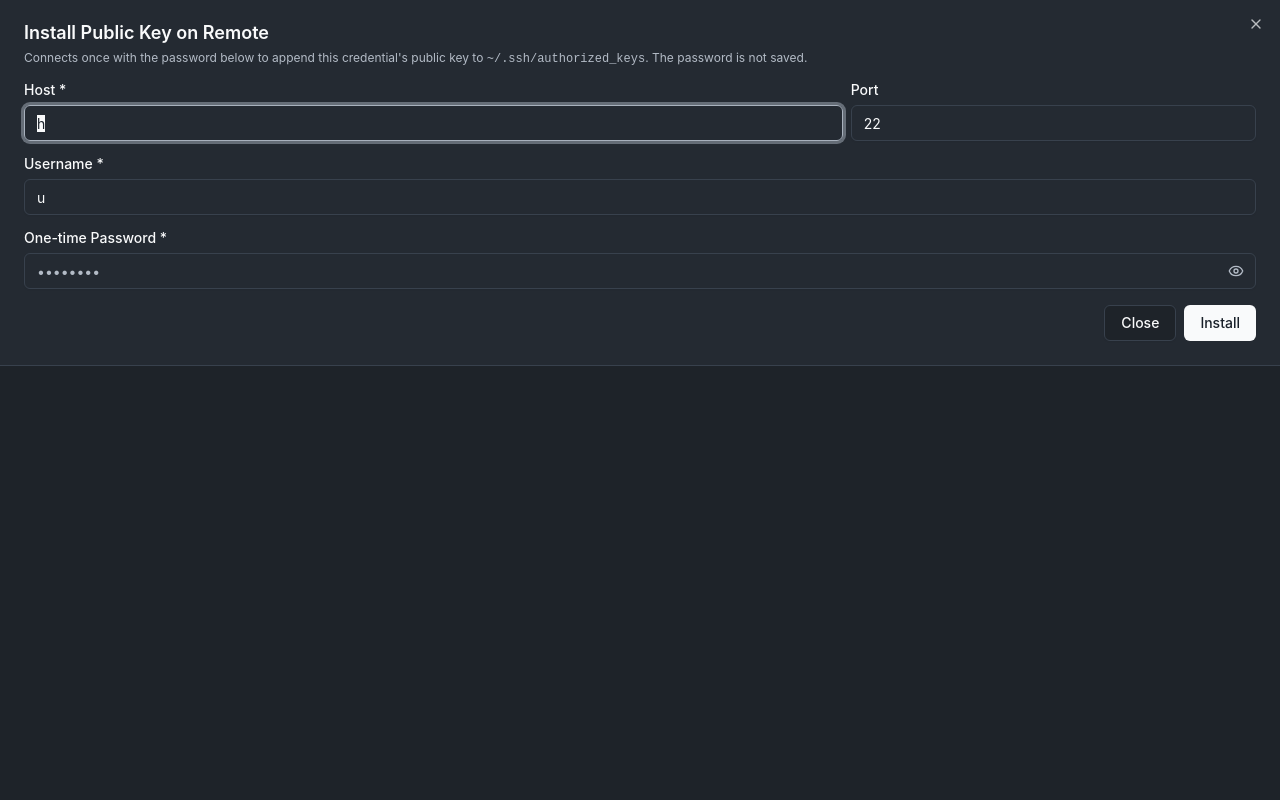
Test case: InstallKeyDialog › blocks submit and shows an inline alert when the port is out of range
The image size is (1280, 800).
Step 1. Replace the text in the field labelled "Port" with "99999" → x=1053, y=123, box [851,105,1256,141]
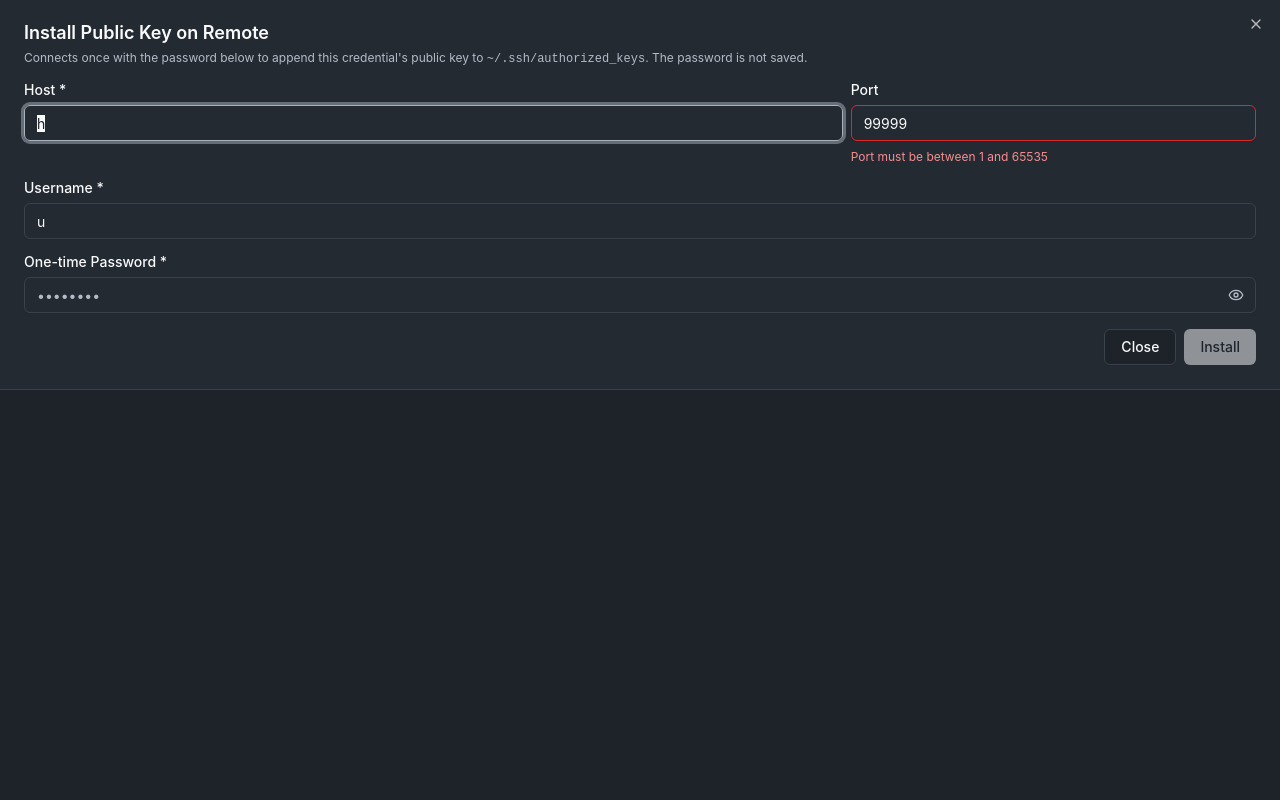
Check: the message shows "between 1 and 65535", box [851,149,1048,164]
Check: the button "Install" is disabled, box [1184,329,1256,365]
